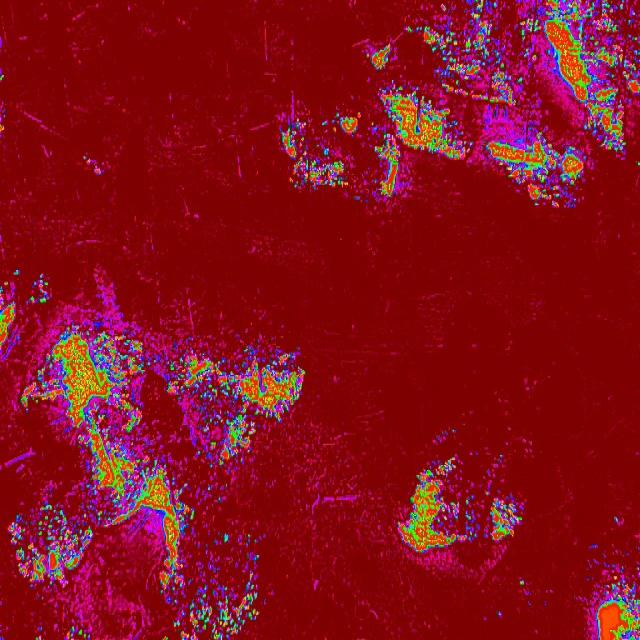fire: (0, 305, 248, 640), (379, 0, 640, 208), (402, 465, 526, 564), (276, 108, 378, 208), (248, 345, 312, 443), (590, 570, 640, 640), (0, 267, 56, 304)
